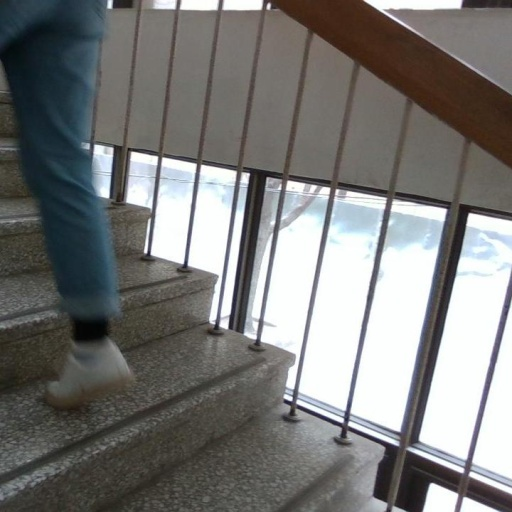Stairs: (0, 119, 383, 512)
